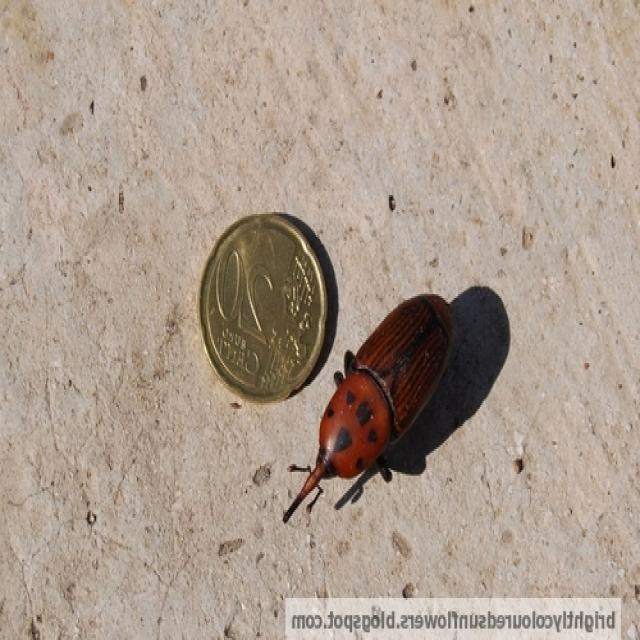Red-palm-weevil: (282, 284, 472, 552)
